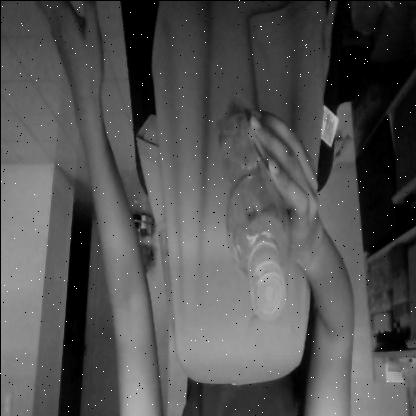Plastic Bottle: (212, 91, 293, 330)
